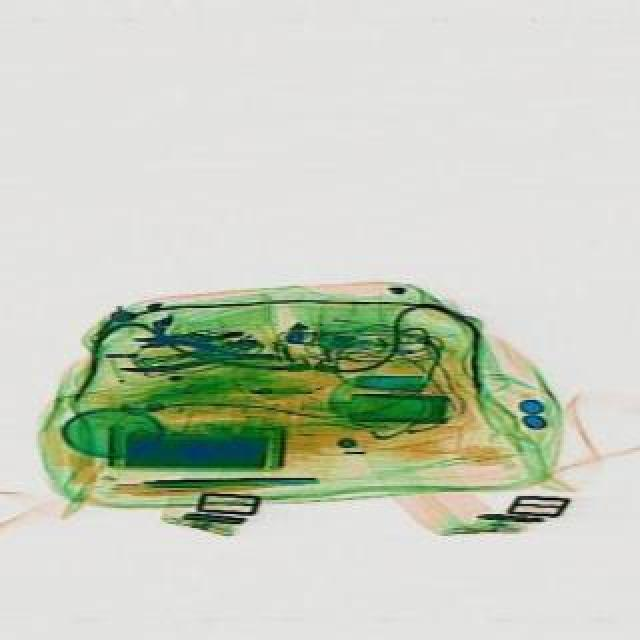wrench: (116, 336, 272, 372)
